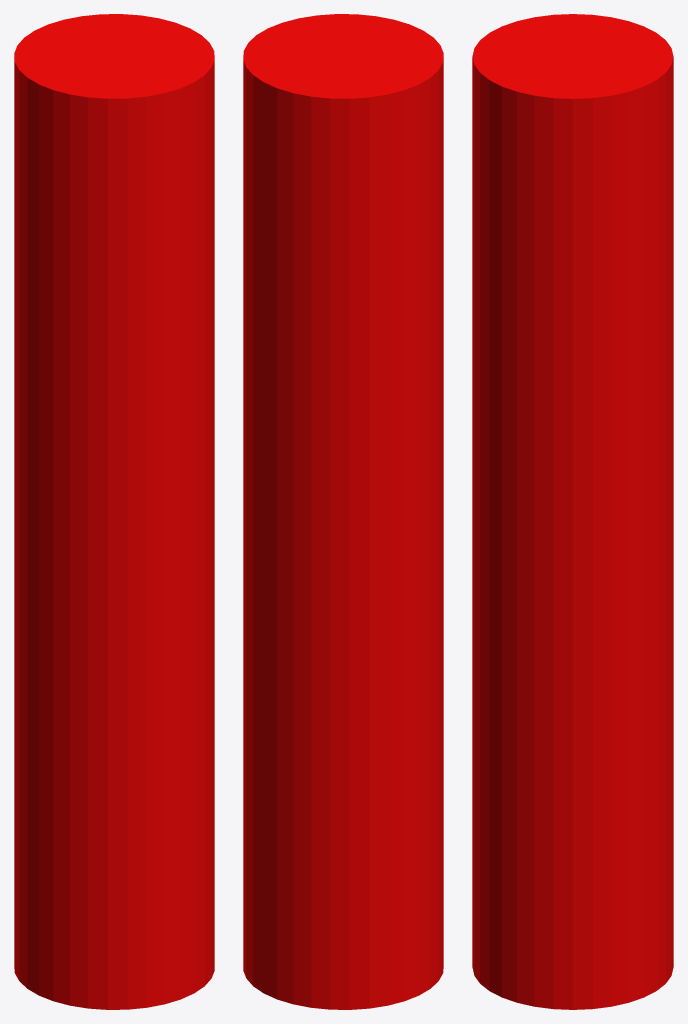
Rendered from sauvc_red_flare.fbx.
3 views of the same model, side by side, from view 1: azimuth 30°, elevation 25°; view 2: azimuth 150°, elevation 25°; view 3: azimuth 270°, elevation 25° (orthographic).
Parts seen in each view (by area): view 1: Cylinder; view 2: Cylinder; view 3: Cylinder.
Part boxes in pixels (bbox=[...]): Cylinder: bbox=[14, 14, 214, 1009]; Cylinder: bbox=[243, 14, 443, 1009]; Cylinder: bbox=[472, 14, 673, 1009].
Size of the model in its own units: 30 by 150 by 30.
